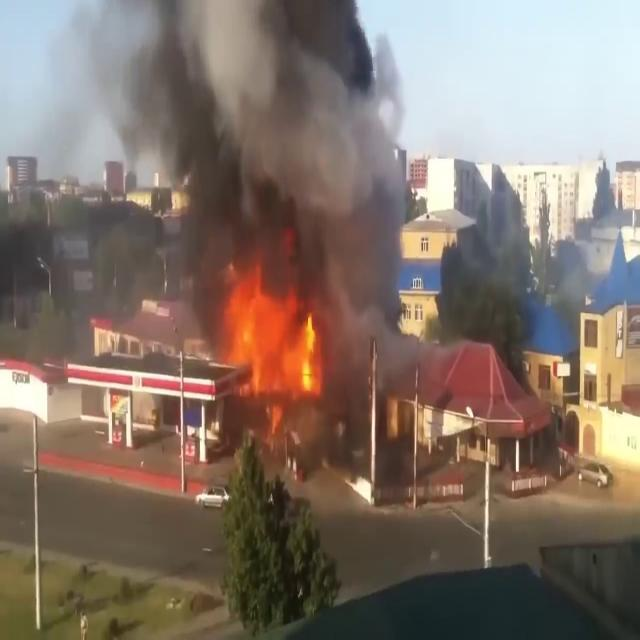Fire: (216, 269, 322, 396)
Smoke: (90, 0, 423, 339)
